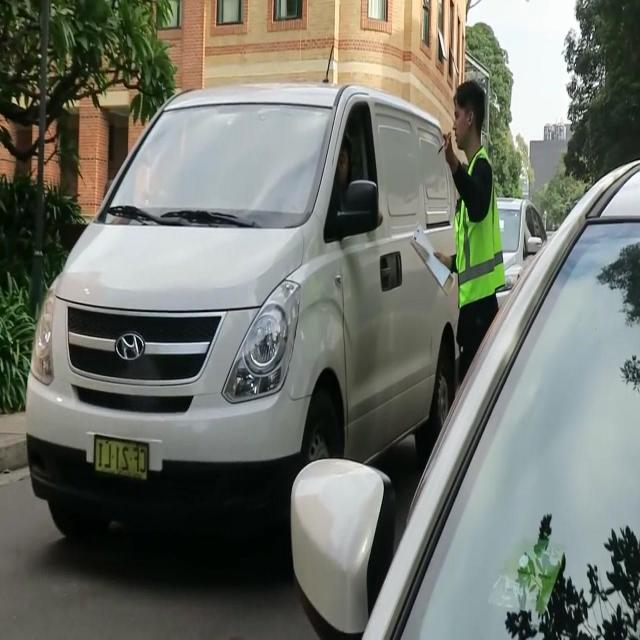Reflective-Jacket: (449, 145, 508, 311)
